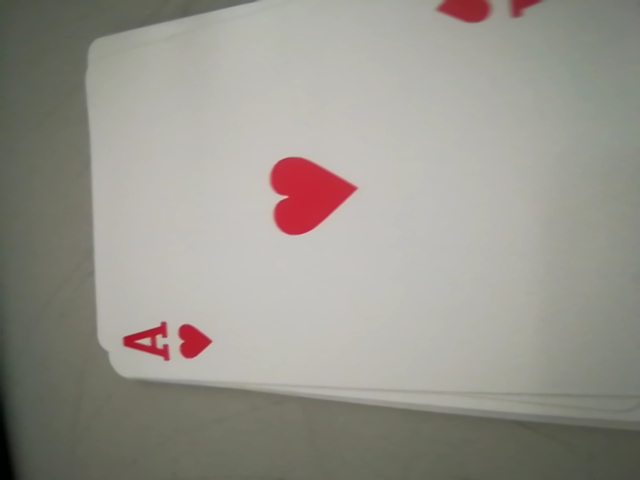hx a: (115, 307, 220, 375)
